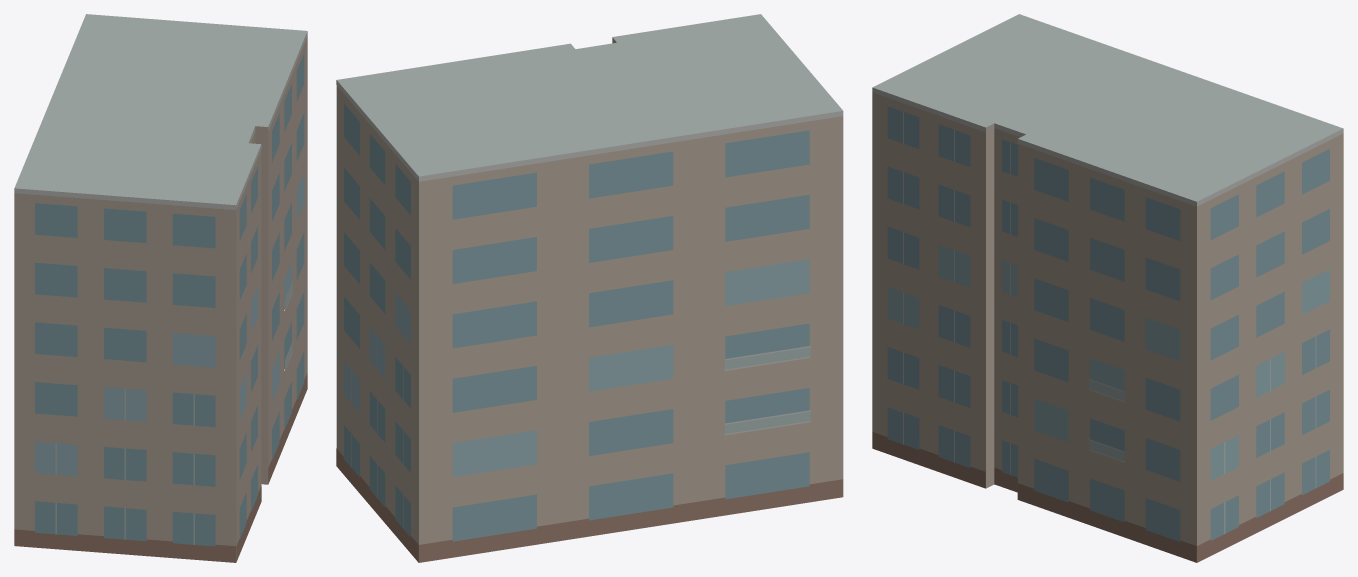
The model's file is survey-upis-32997226.glb.
3 renders of one model, left to right at view 1: azimuth 30°, elevation 25°; view 2: azimuth 150°, elevation 25°; view 3: azimuth 270°, elevation 25°, orthographic. The views are drawn at different scales.
Parts seen in each view (by area): view 1: survey-upis-32997226.tmp; view 2: survey-upis-32997226.tmp; view 3: survey-upis-32997226.tmp.
Boxes of the visible parts, bbox=[...] form: survey-upis-32997226.tmp: bbox=[14, 14, 307, 562]; survey-upis-32997226.tmp: bbox=[336, 14, 843, 562]; survey-upis-32997226.tmp: bbox=[872, 14, 1343, 562].
Bounding box in the file's own units: 20.2 × 18.1 × 21.42.
